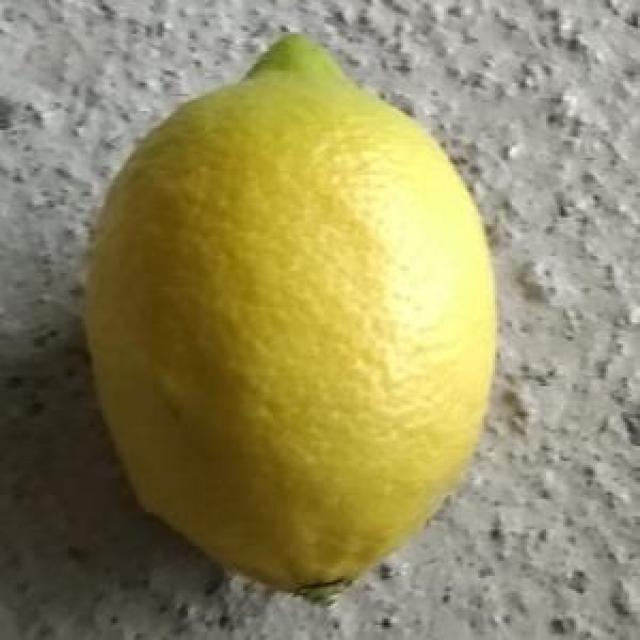lemon: (79, 26, 501, 612)
